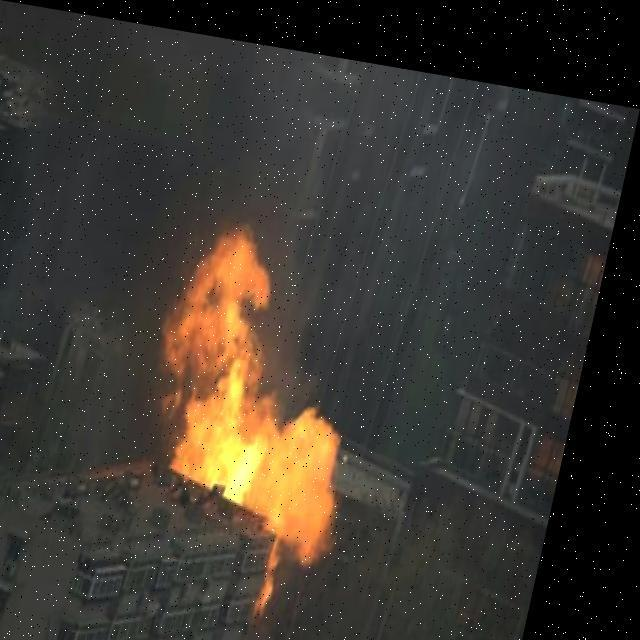Fire: (132, 202, 408, 604)
